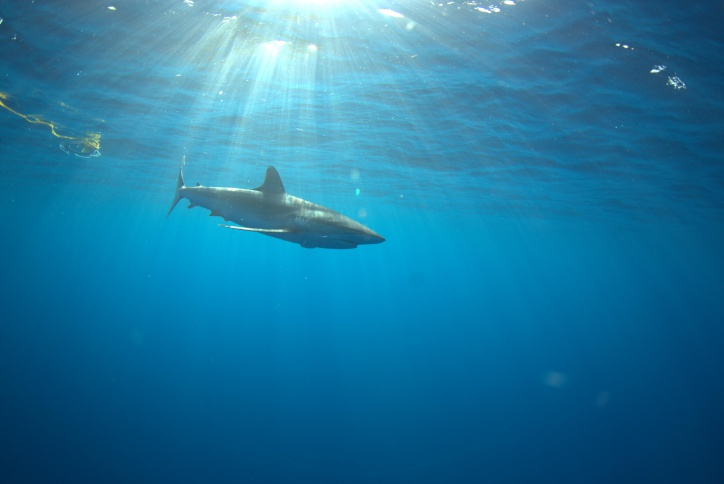Sedoso: (158, 142, 398, 268)
